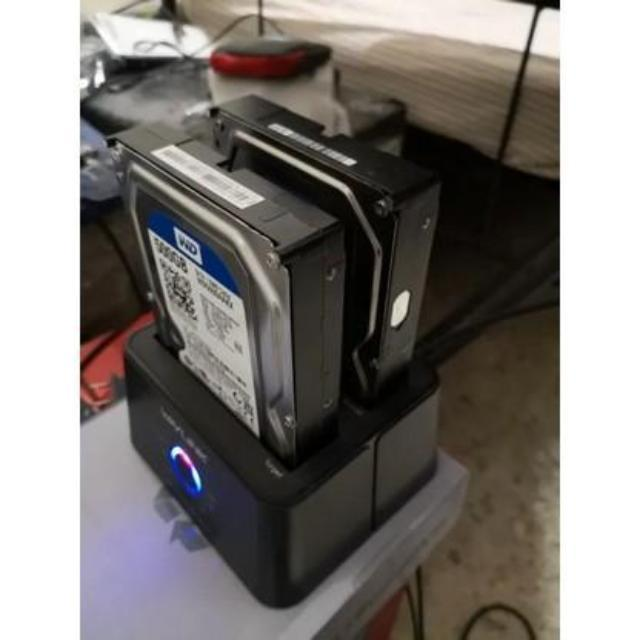DISK: (100, 77, 468, 457)
